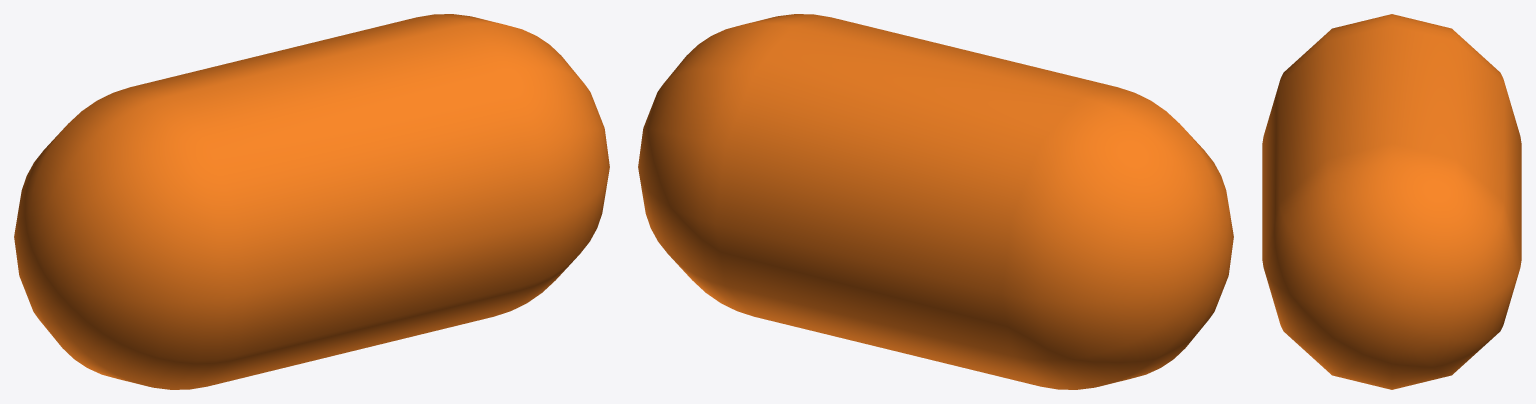
3 renders of one model, left to right at view 1: azimuth 30°, elevation 25°; view 2: azimuth 150°, elevation 25°; view 3: azimuth 270°, elevation 25°, orthographic. The views are drawn at different scales.
Visible parts, largest first — view 1: gripper_frame; view 2: gripper_frame; view 3: gripper_frame.
Part boxes in pixels (left/top/right/bottom): gripper_frame: left=14, top=14, right=609, bottom=389; gripper_frame: left=638, top=14, right=1233, bottom=389; gripper_frame: left=1262, top=14, right=1521, bottom=389.
Bounding box in the file's own units: 0.0226 × 0.0109 × 0.0109.
